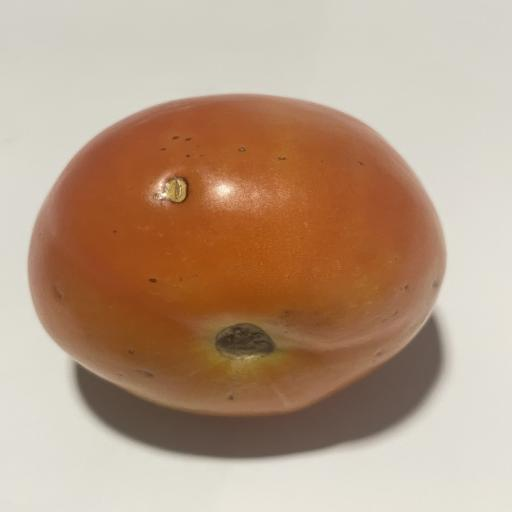unripe: (29, 94, 445, 416)
